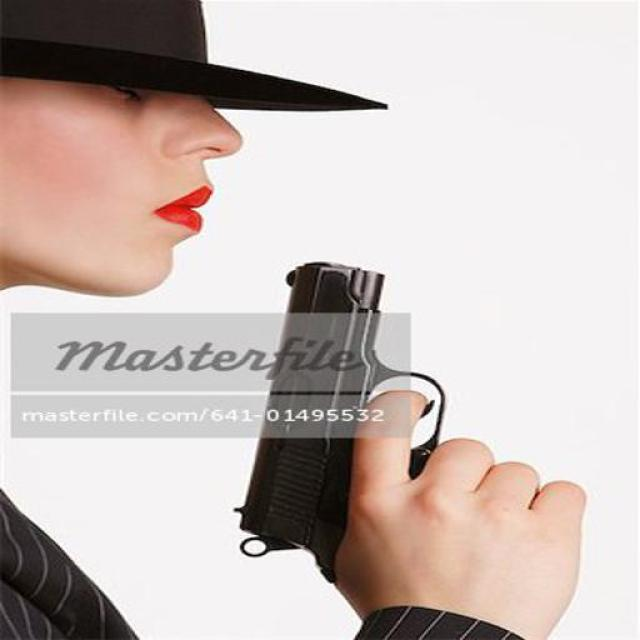pistol: (211, 262, 487, 581)
